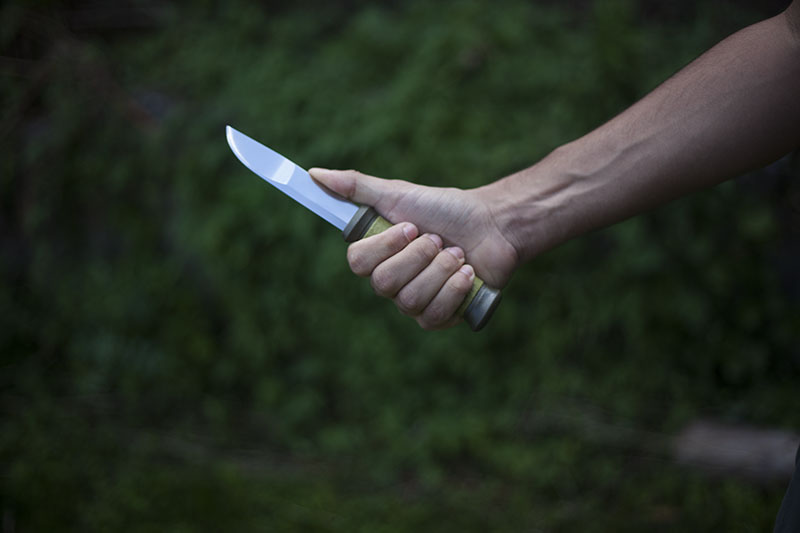knief: (201, 106, 496, 342)
